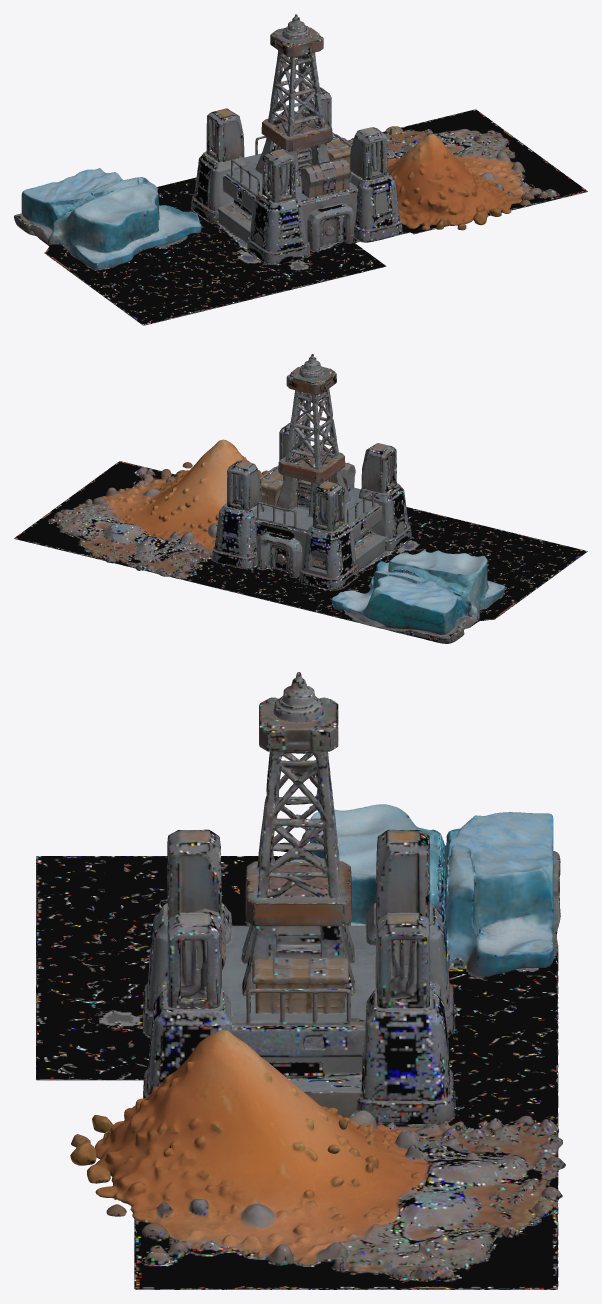
Rendered from stantsiya-atmosfernaya.glb.
3 renders of one model, top to bottom at view 1: azimuth 30°, elevation 25°; view 2: azimuth 150°, elevation 25°; view 3: azimuth 270°, elevation 25°, orthographic. The views are drawn at different scales.
Visible parts, largest first — view 1: geometry_0; view 2: geometry_0; view 3: geometry_0.
Boxes of the visible parts, left/top/right/bottom form: geometry_0: left=14, top=14, right=587, bottom=325; geometry_0: left=14, top=354, right=587, bottom=643; geometry_0: left=36, top=672, right=565, bottom=1289.
Bounding box in the file's own units: 0.9951 × 0.4246 × 0.5147.
Materials: 1 (1 with a texture image).
